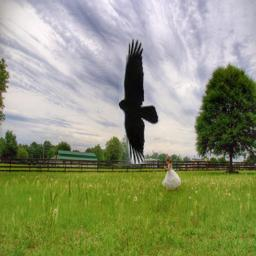Crow: (119, 38, 159, 164)
